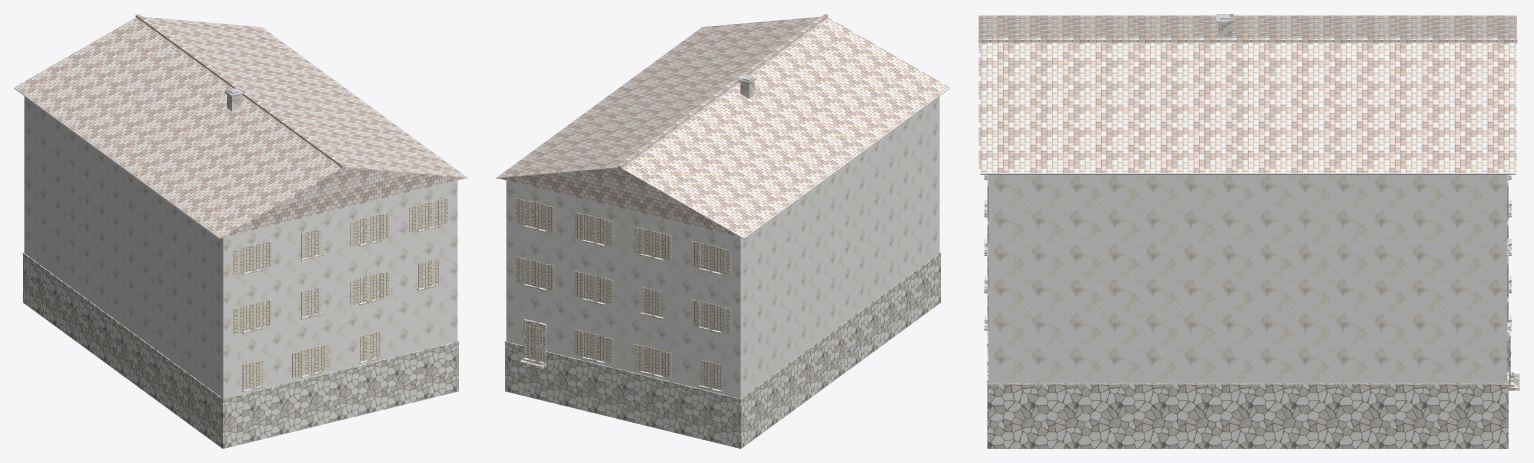
The picture shows the model from 3 angles, left to right: view 1: azimuth 30°, elevation 25°; view 2: azimuth 150°, elevation 25°; view 3: azimuth 270°, elevation 25°; orthographic projection. The views are drawn at different scales.
Visible parts, largest first — view 1: b1096729684; view 2: b1096729684; view 3: b1096729684.
Part boxes in pixels (bbox=[...]): b1096729684: bbox=[14, 14, 467, 448]; b1096729684: bbox=[496, 14, 949, 448]; b1096729684: bbox=[978, 14, 1519, 448].
Bounding box in the file's own units: 13.76 × 14.1 × 19.9.
Materials: 18 (18 with a texture image).
